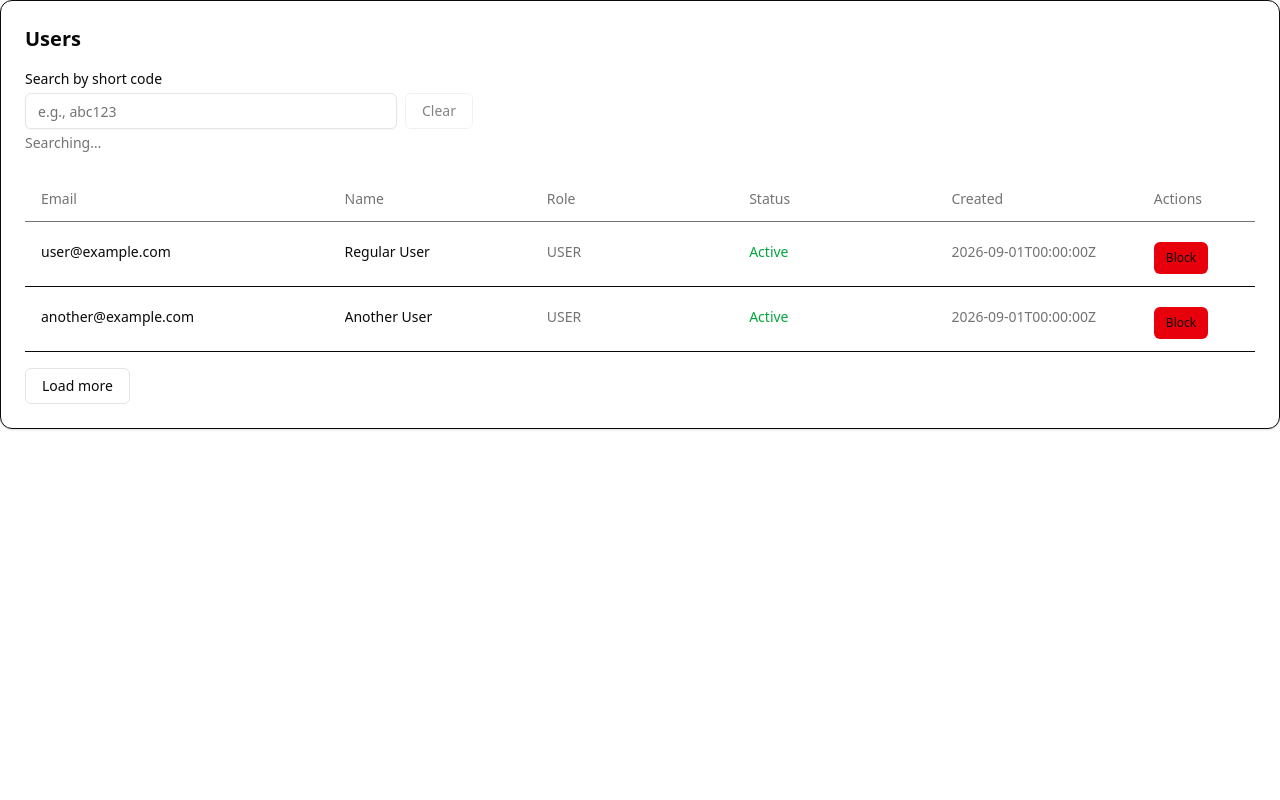
Test: UsersPage (admin) › block button opens dialog and blocks user
This screenshot has width=1280, height=800.
Check: the link "user@example.com" is shown, box [41, 242, 171, 261]
# Click the first Block button (for the first user)
Click the button "Block" in the row of "Regular User" at (1181, 258), box [1154, 242, 1208, 274]
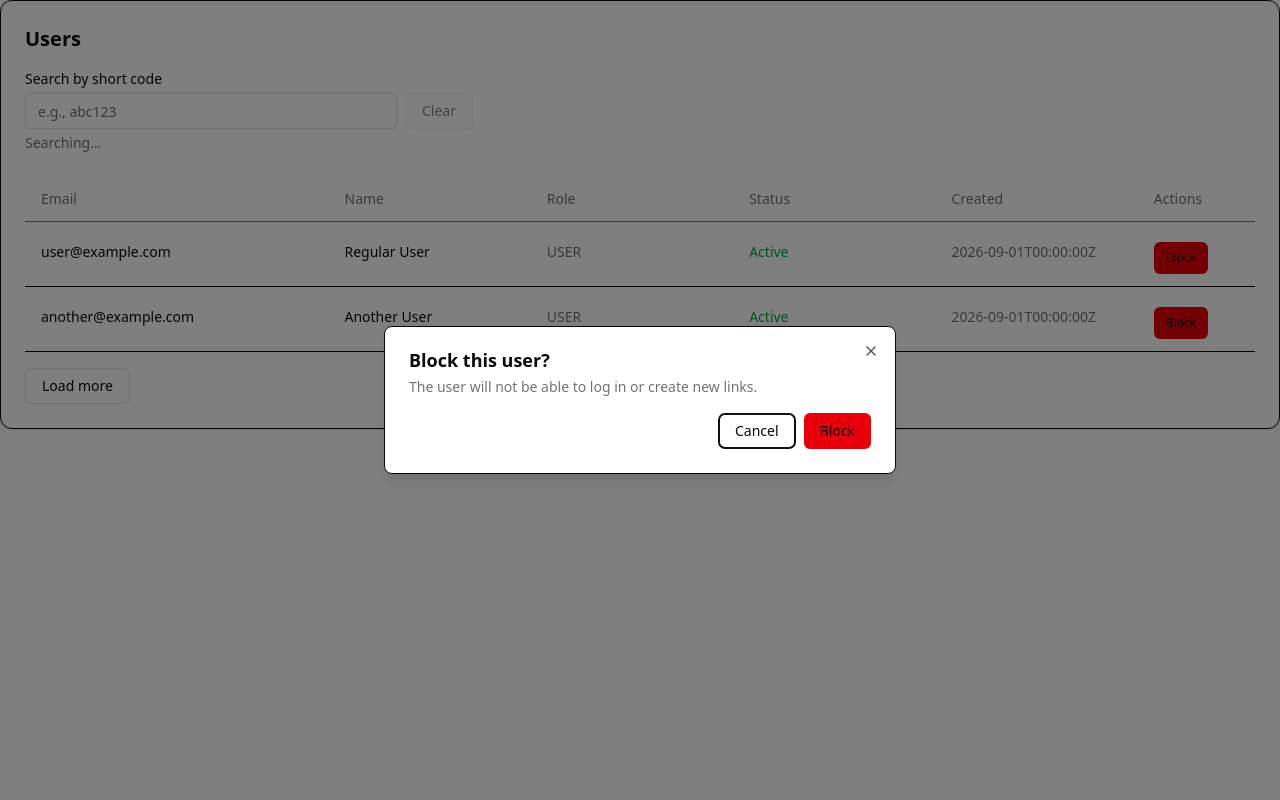
Check: the dialog is shown, box [384, 326, 896, 474]
Check: the dialog shows "Block this user?", box [409, 348, 550, 372]
Click the button "Block" at (837, 431), box [804, 413, 871, 449]
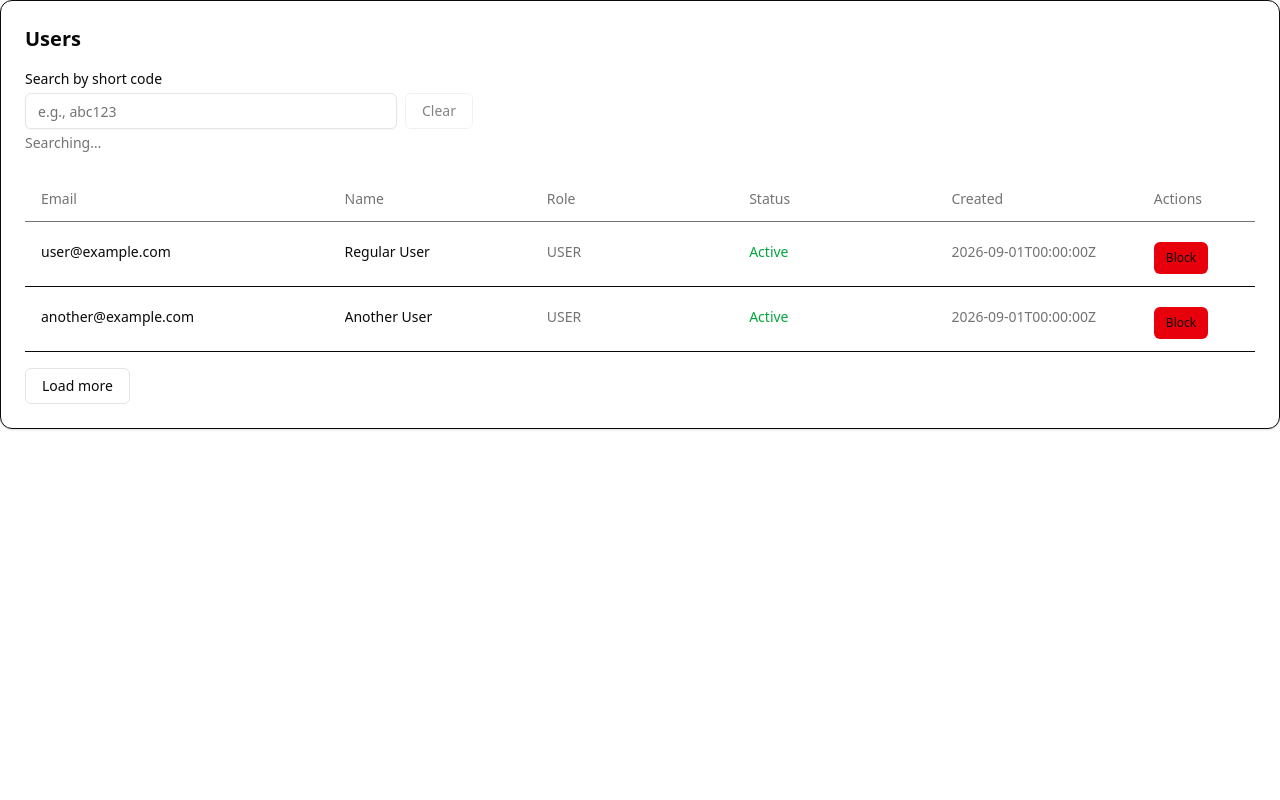
Check: the dialog is gone
